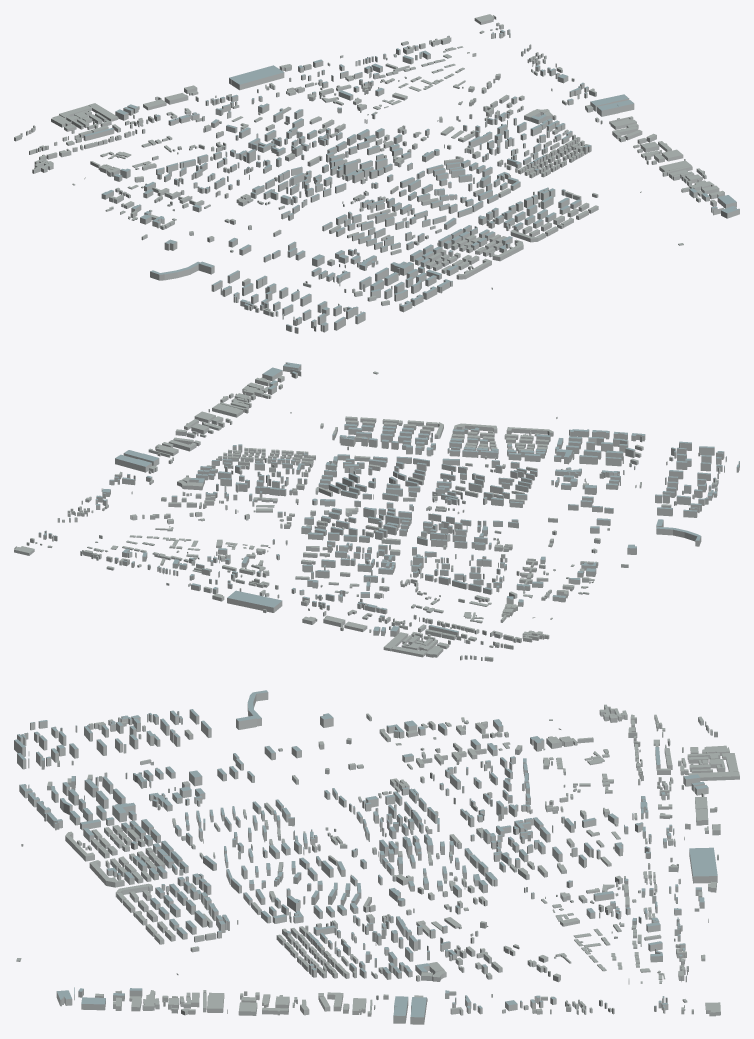
Rendered from far.glb.
The picture shows the model from 3 angles, top to bottom: view 1: azimuth 30°, elevation 25°; view 2: azimuth 150°, elevation 25°; view 3: azimuth 270°, elevation 25°; orthographic projection. The views are drawn at different scales.
Size of the model in its own units: 2325 by 42.38 by 2181.
